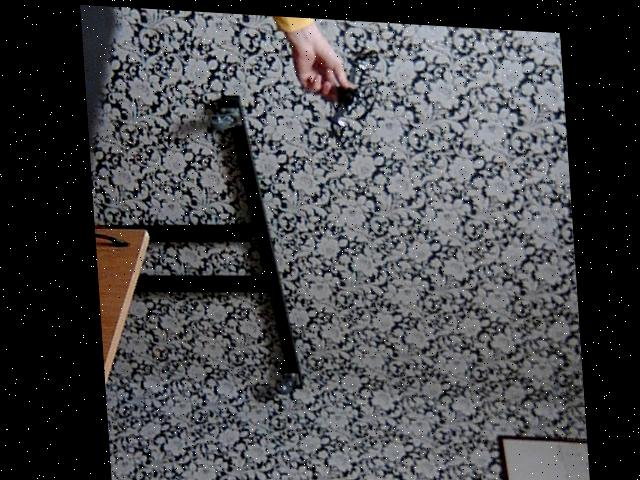drone: (322, 35, 384, 156)
